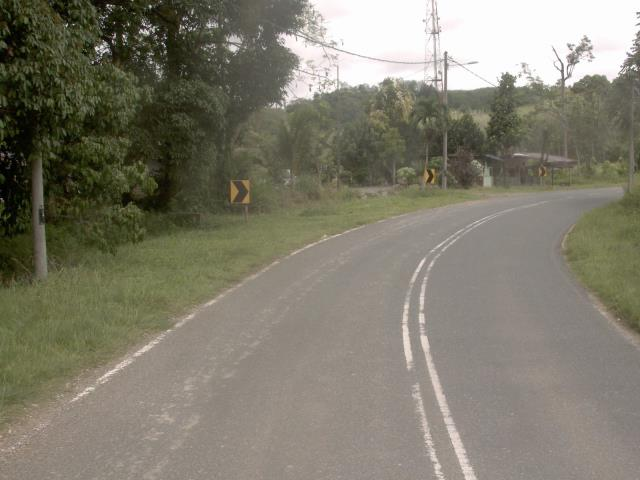traffic_sign: (225, 172, 256, 211)
